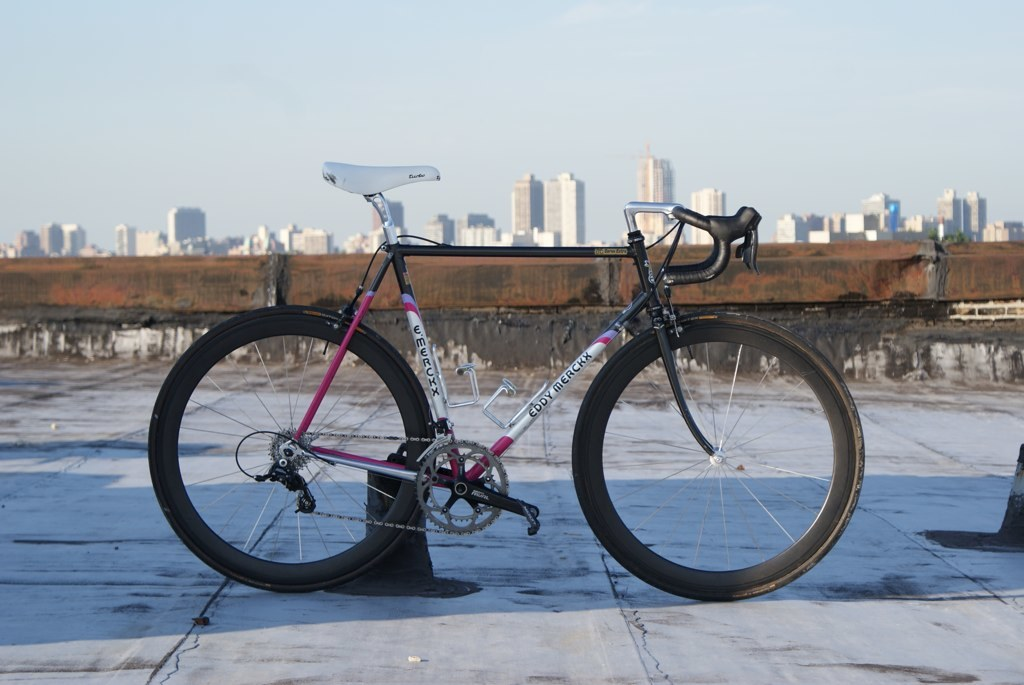Bike: (132, 171, 859, 610)
